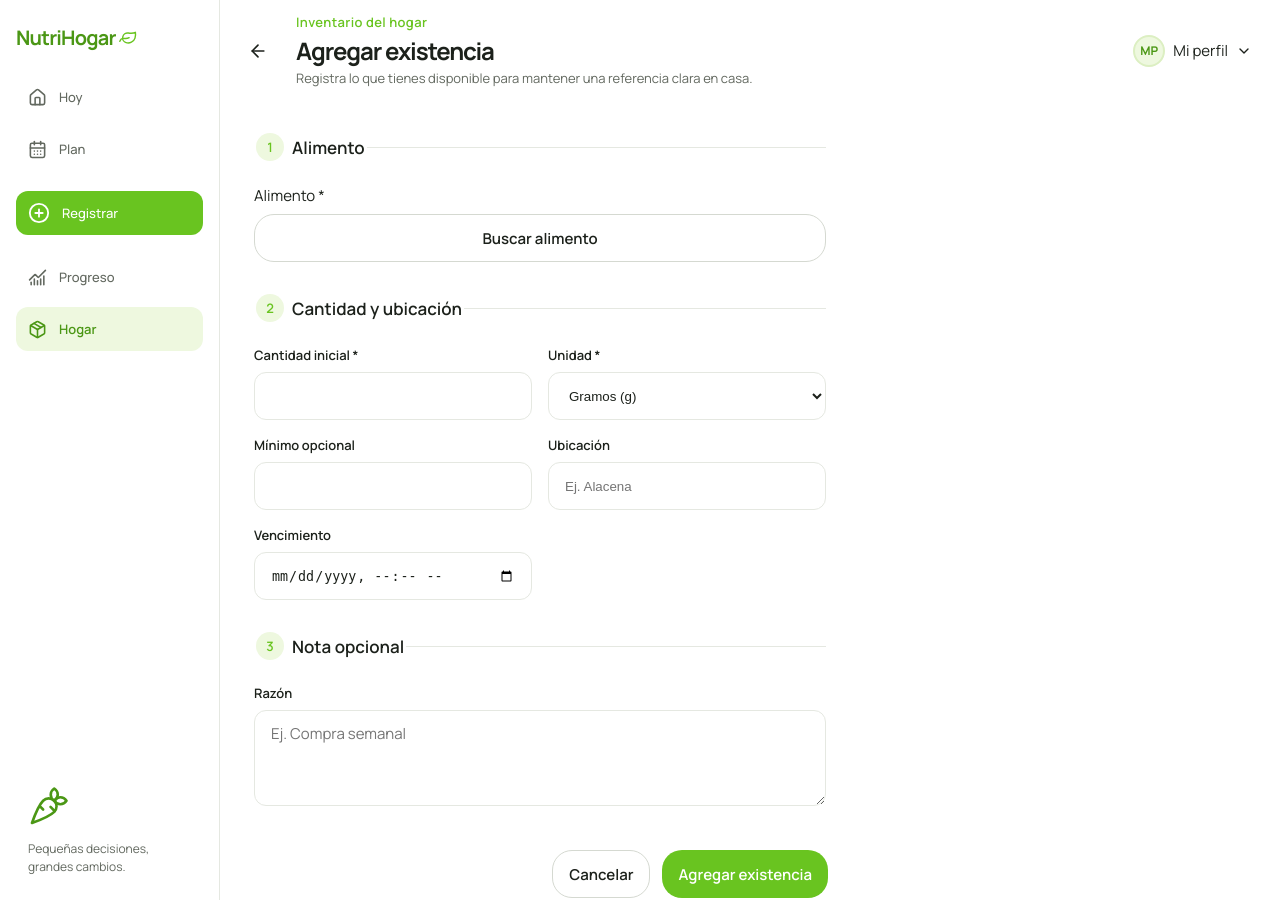
Test case: Inventory form pages › requires an alimento before creating an inventory item
Click the button "Agregar existencia": {"x": 745, "y": 874} [662,850,828,898]
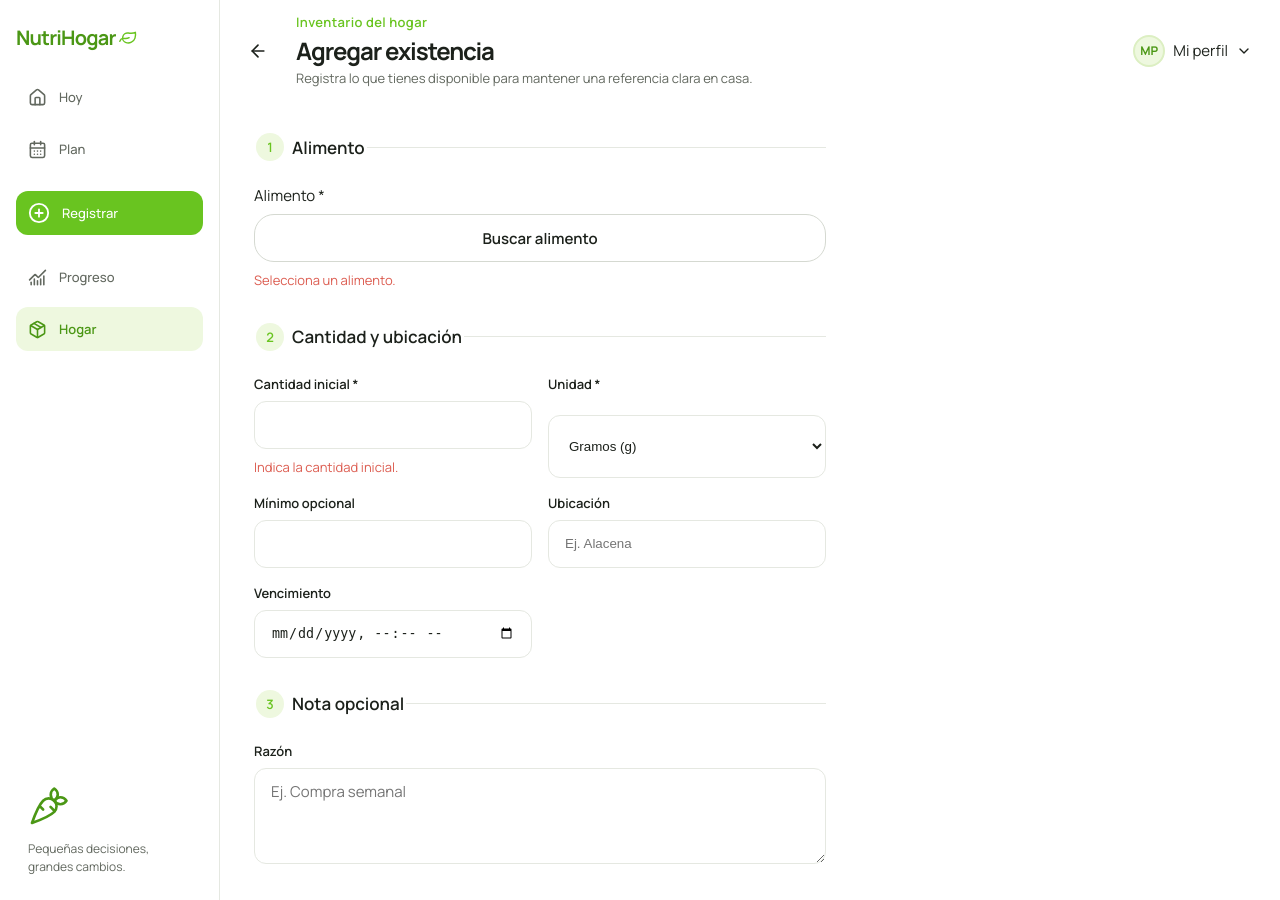
Now the text "Selecciona un alimento." is shown, box [254,271,396,289]
